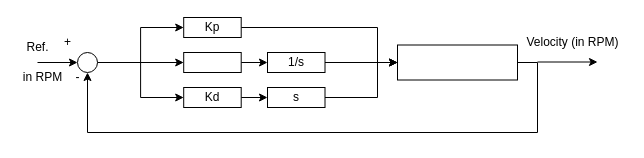
This 644x158 diagram has some shape labels left out. The shapes that lost their labels are listed below. From the top down, each one's centre as x and y in pixels, then its label:
[212,62]: Ki
[457,62]: G(s)
